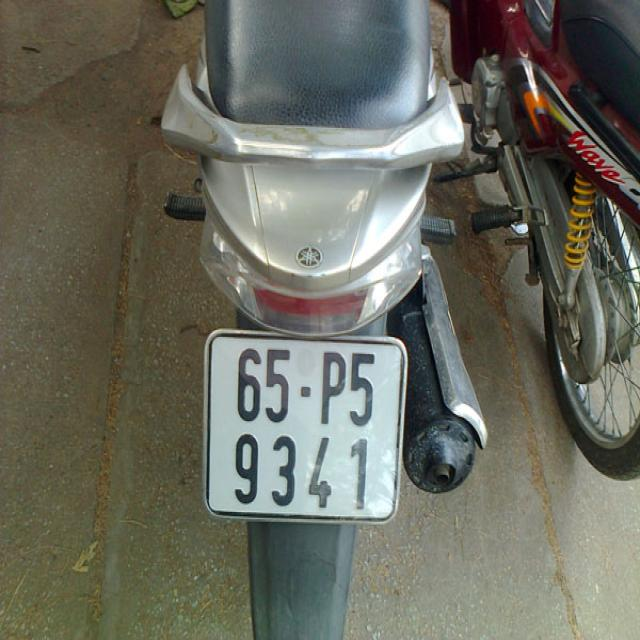bienxe: (199, 326, 411, 532)
